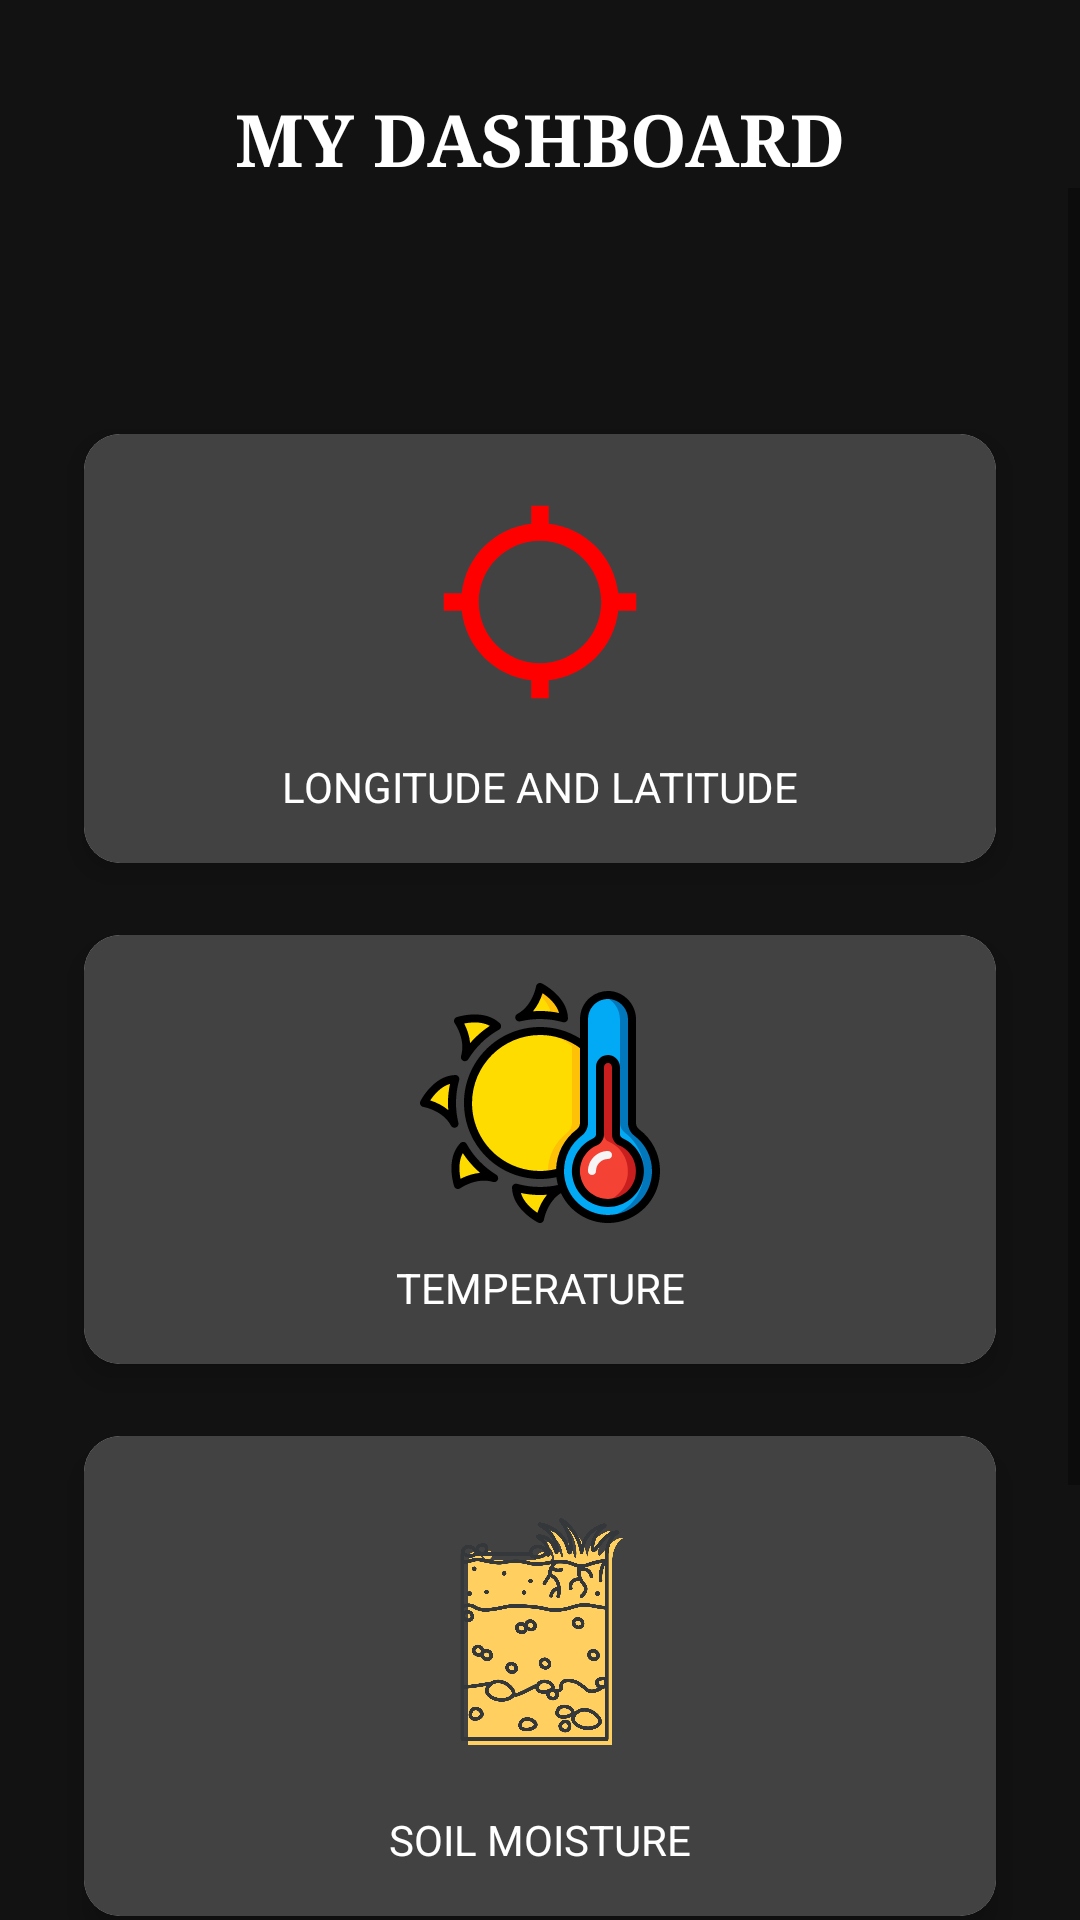

Locate icon controls on the screen. Image size 1080x1920, boxes as (x1, y1, x2, y2).
location searching: (443, 505, 637, 699)
